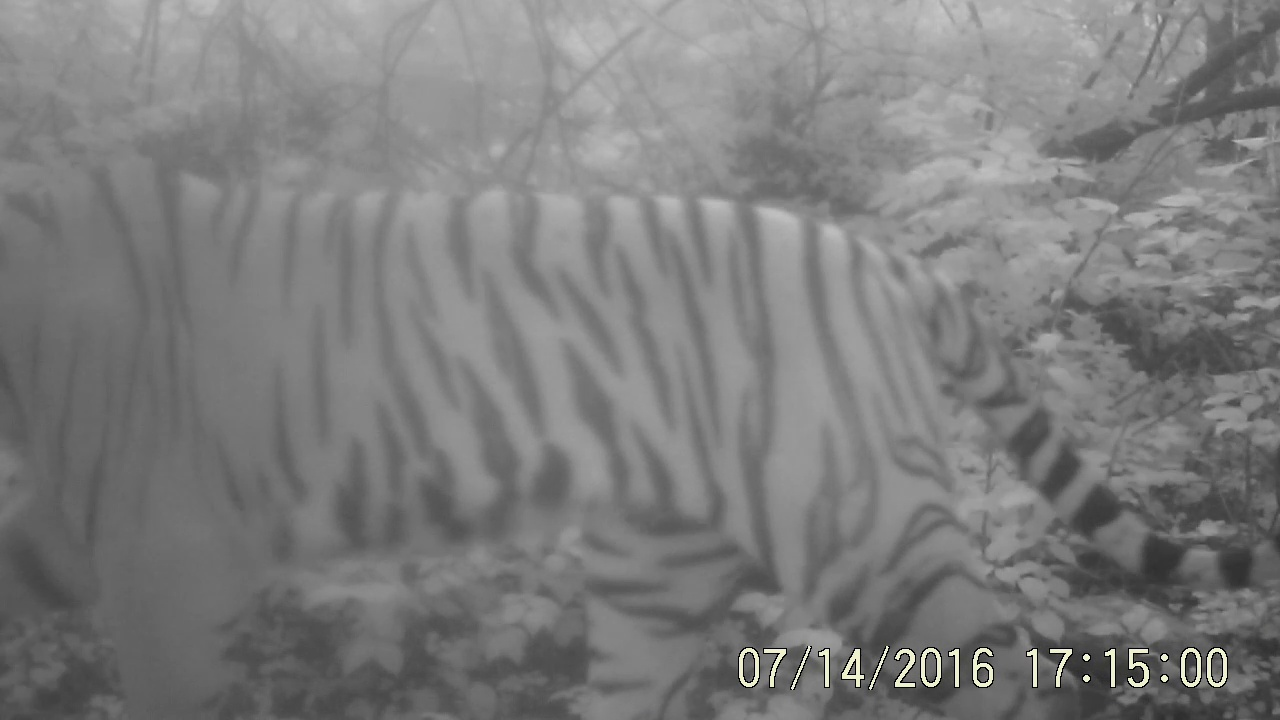Tiger: (1, 49, 1280, 720)
